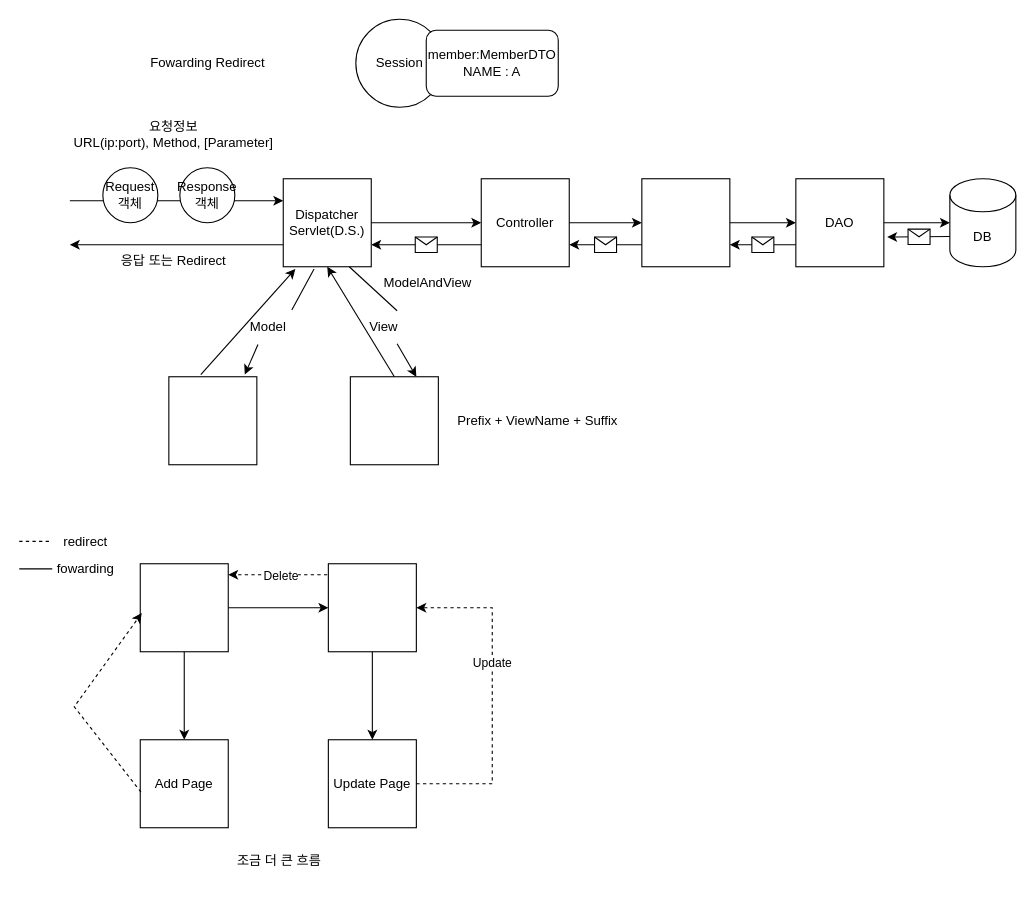
This 1035x897 diagram has some shape labels left out. Each missing label, with the centre of its shape:
"Detail Page" belongs at (371,607).
"IRV(Internal Resource View Resolver)" belongs at (393,420).
"JSP" belongs at (212,420).
"List Page" belongs at (183,607).
"Service" belongs at (685,222).
